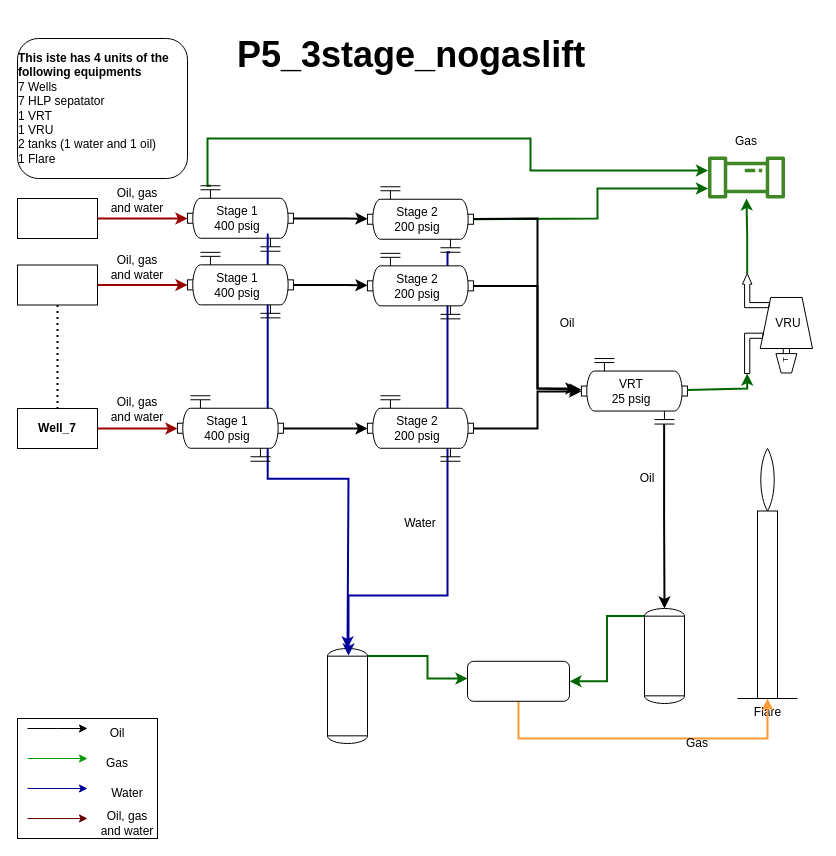
Image size: 836x856. Some labels were removed from this diagram. The centre of each missing label's shape, as x and y in pixels:
Common header: the point at 518,680
Oil tank: the point at 664,656
Pipeline: the point at 746,177
Water tank: the point at 347,696
Well_1: the point at 57,218
Well_2: the point at 57,284
